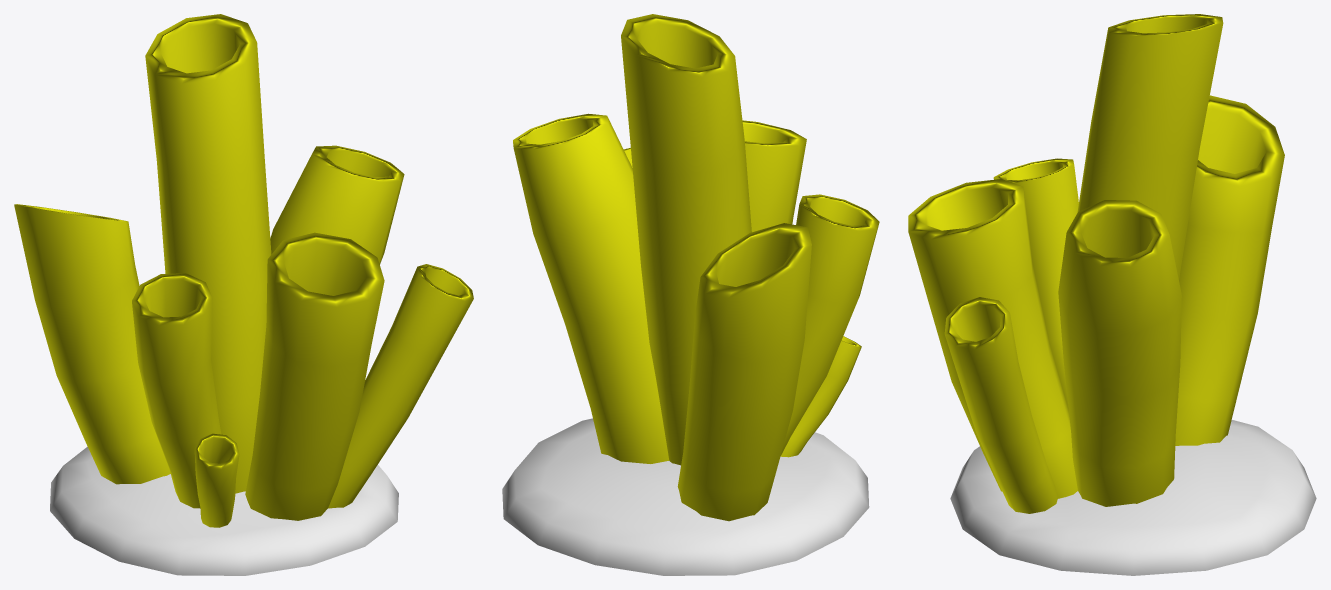
File: tubecoral_low.fbx
The picture shows the model from 3 angles, left to right: view 1: azimuth 30°, elevation 25°; view 2: azimuth 150°, elevation 25°; view 3: azimuth 270°, elevation 25°; orthographic projection. The views are drawn at different scales.
Visible parts, largest first — view 1: tubecoral_low; view 2: tubecoral_low; view 3: tubecoral_low.
Part boxes in pixels (x1,y1,x2,y2): tubecoral_low: (14, 14, 473, 575); tubecoral_low: (502, 14, 879, 575); tubecoral_low: (908, 14, 1316, 575).
Size of the model in its own units: 68.72 by 91.12 by 69.72.
